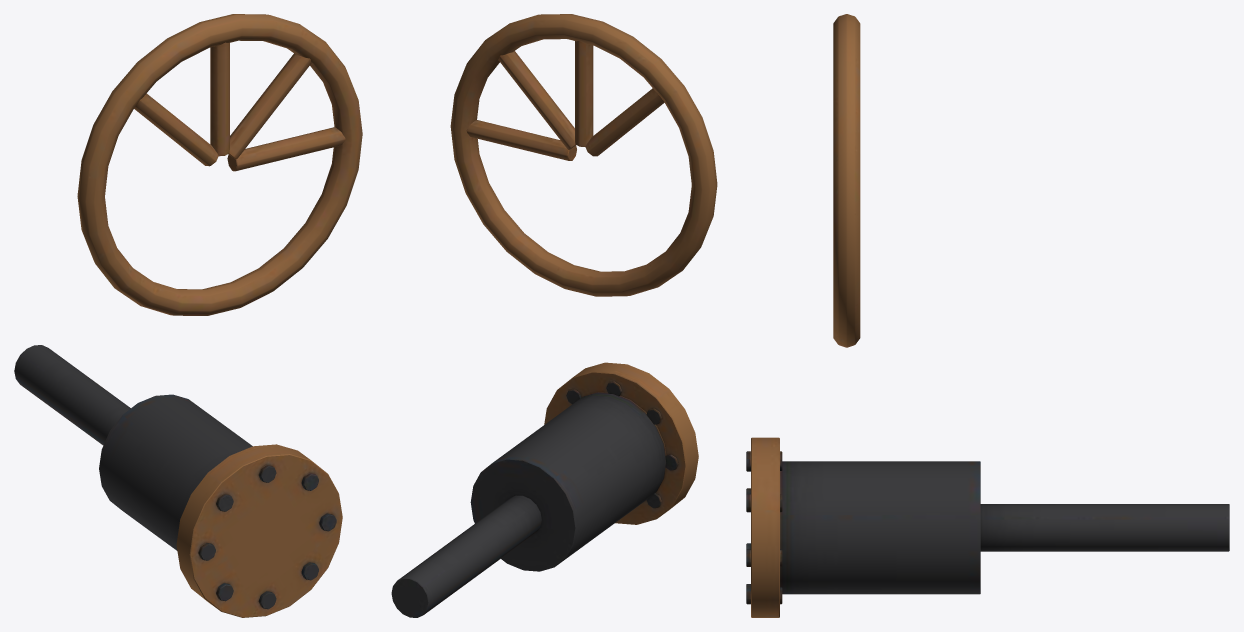
File: LV_valve_wheel.glb
3 views of the same model, side by side, from view 1: azimuth 30°, elevation 25°; view 2: azimuth 150°, elevation 25°; view 3: azimuth 270°, elevation 25° (orthographic). The views are drawn at different scales.
Visible parts, largest first — view 1: LV_valve_wheel; view 2: LV_valve_wheel; view 3: LV_valve_wheel.
Part boxes in pixels (<box>): LV_valve_wheel: <box>14,14,362,617</box>; LV_valve_wheel: <box>391,14,717,617</box>; LV_valve_wheel: <box>746,14,1229,617</box>.
Bounding box in the file's own units: 0.6991 × 1.34 × 1.01.
1 material, 1 textured.
